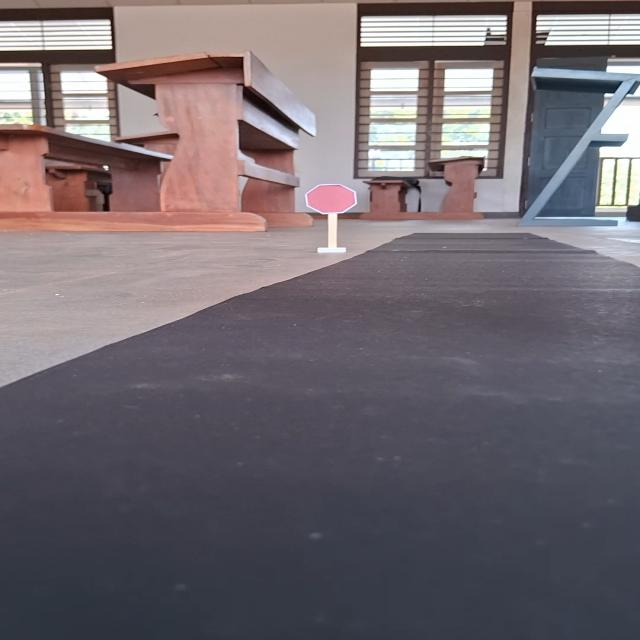Stop: (305, 183, 358, 214)
